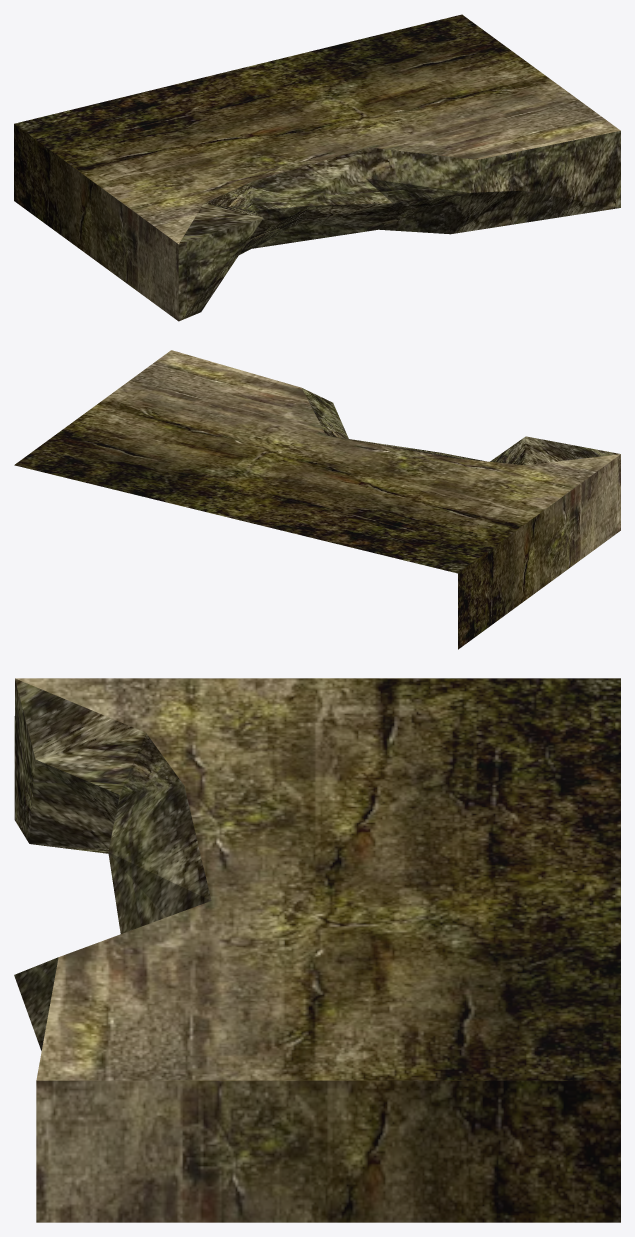
3 views of the same model, one above another, from view 1: azimuth 30°, elevation 25°; view 2: azimuth 150°, elevation 25°; view 3: azimuth 270°, elevation 25° (orthographic). The views are drawn at different scales.
Parts seen in each view (by area): view 1: model_Object17; view 2: model_Object17; view 3: model_Object17.
Boxes of the visible parts, x1,y1,x2,y2 form: model_Object17: (14, 14, 620, 321); model_Object17: (14, 350, 620, 649); model_Object17: (14, 678, 620, 1222).
Size of the model in its own units: 3.02 by 0.5092 by 1.92.
Materials: 2 (2 with a texture image).
